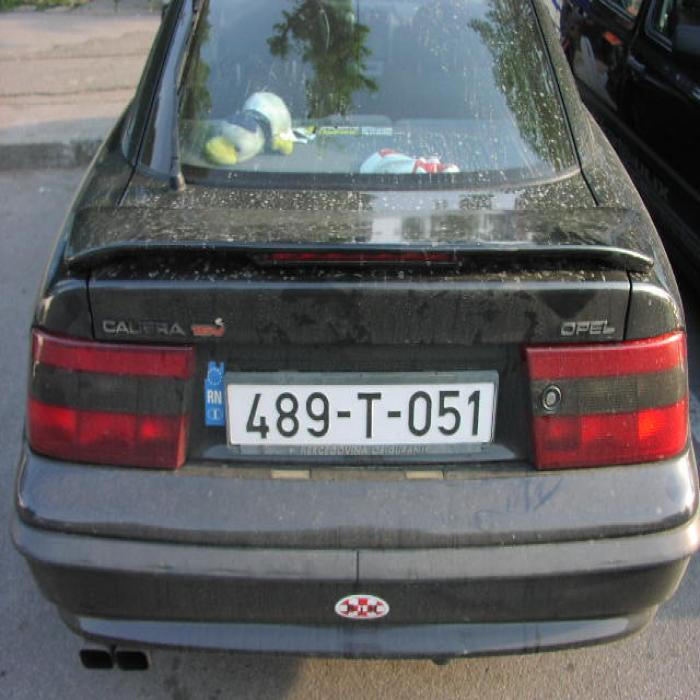number_plate: (227, 380, 491, 440)
